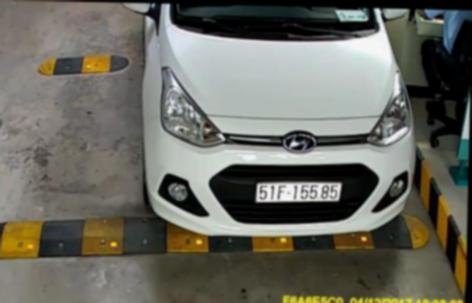License_Plate: (249, 176, 349, 211)
